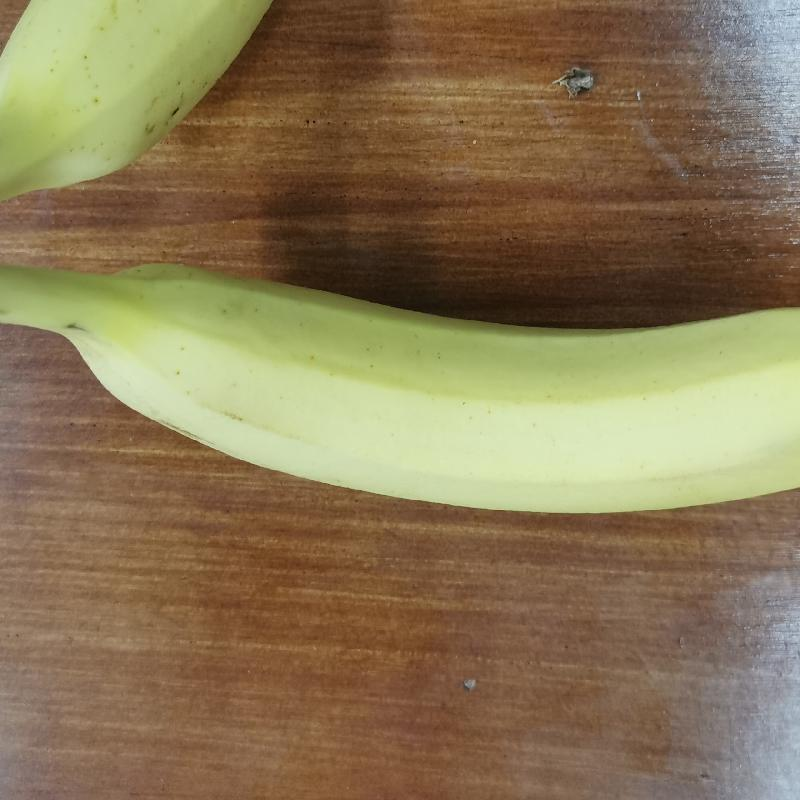bananas: (10, 239, 799, 529)
